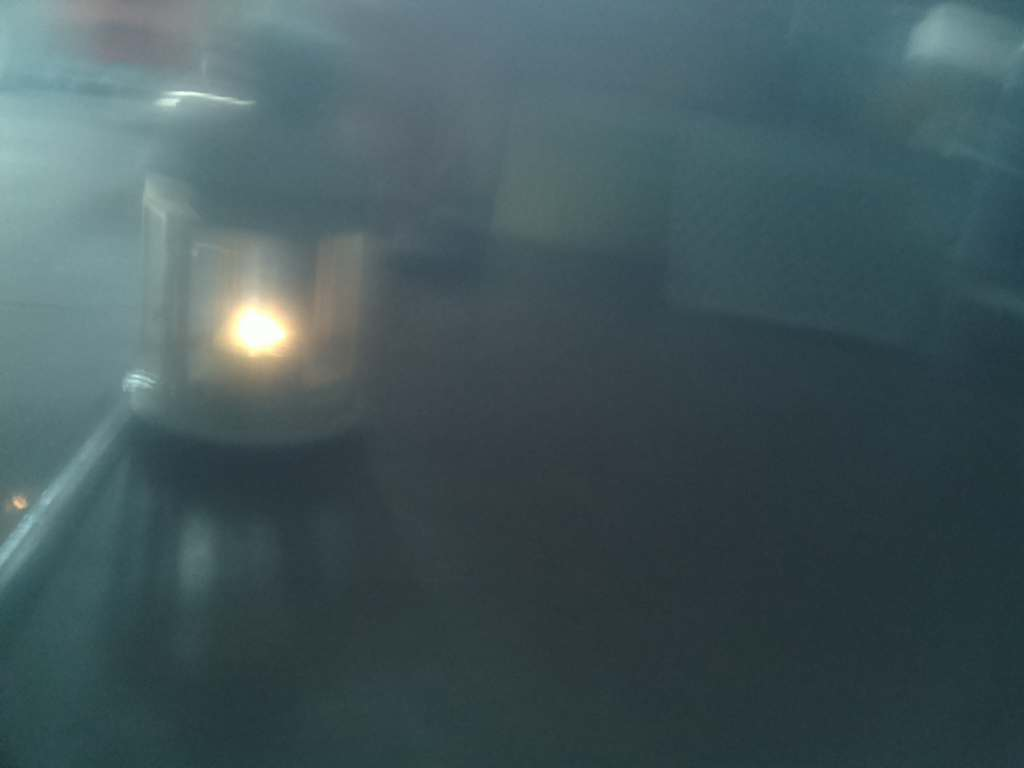fire: (197, 289, 304, 374)
